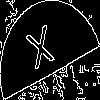X: (25, 25, 59, 80)
